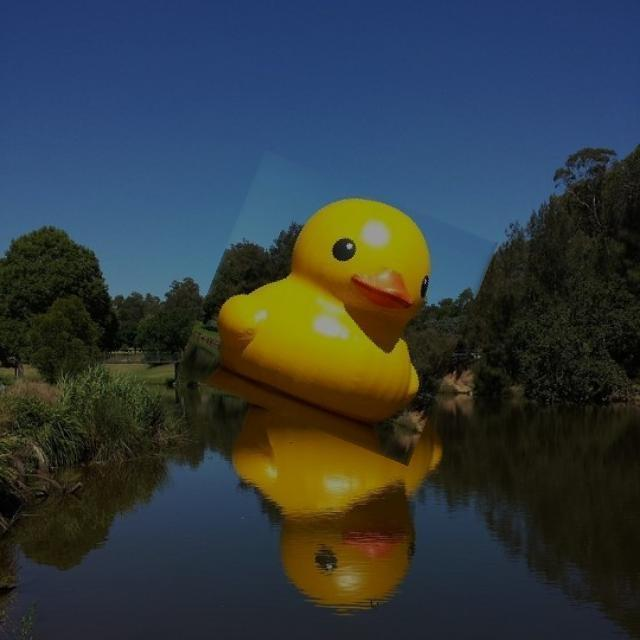rubber-duck: (217, 197, 428, 420)
